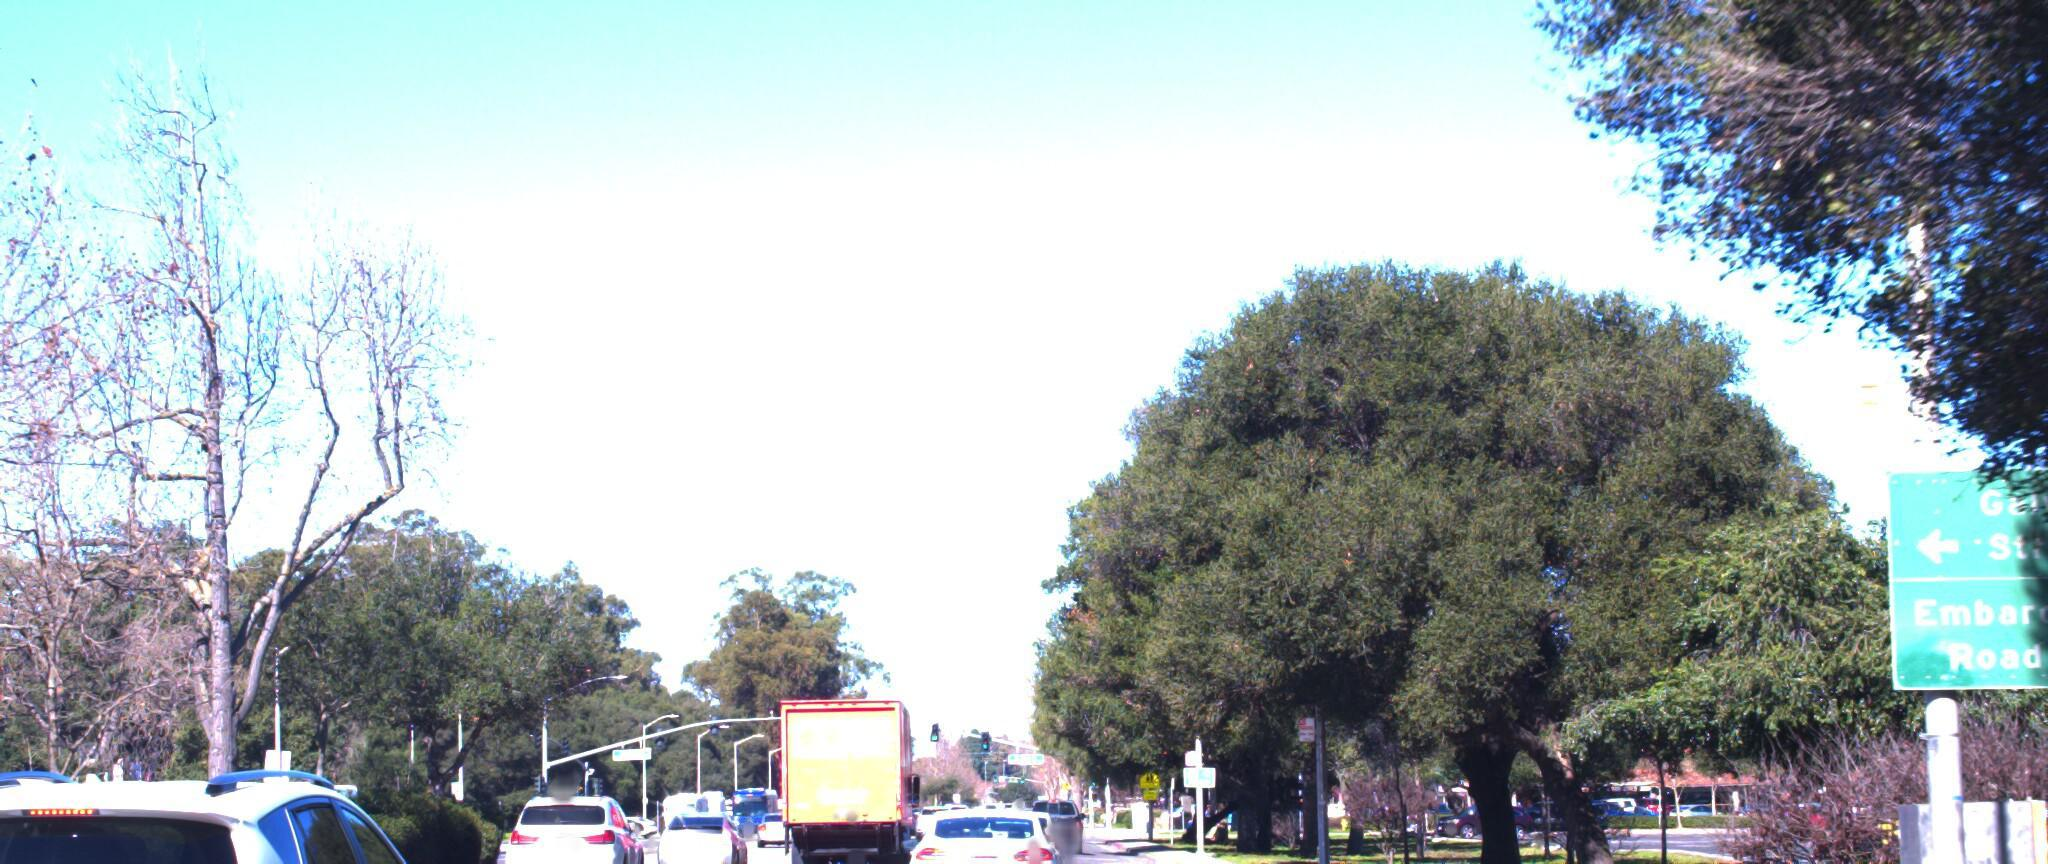car: (0, 737, 515, 864), (504, 765, 654, 864), (893, 782, 1068, 864), (639, 767, 746, 850)
other_vehicle: (0, 737, 14, 850)
truck: (773, 662, 934, 848)
